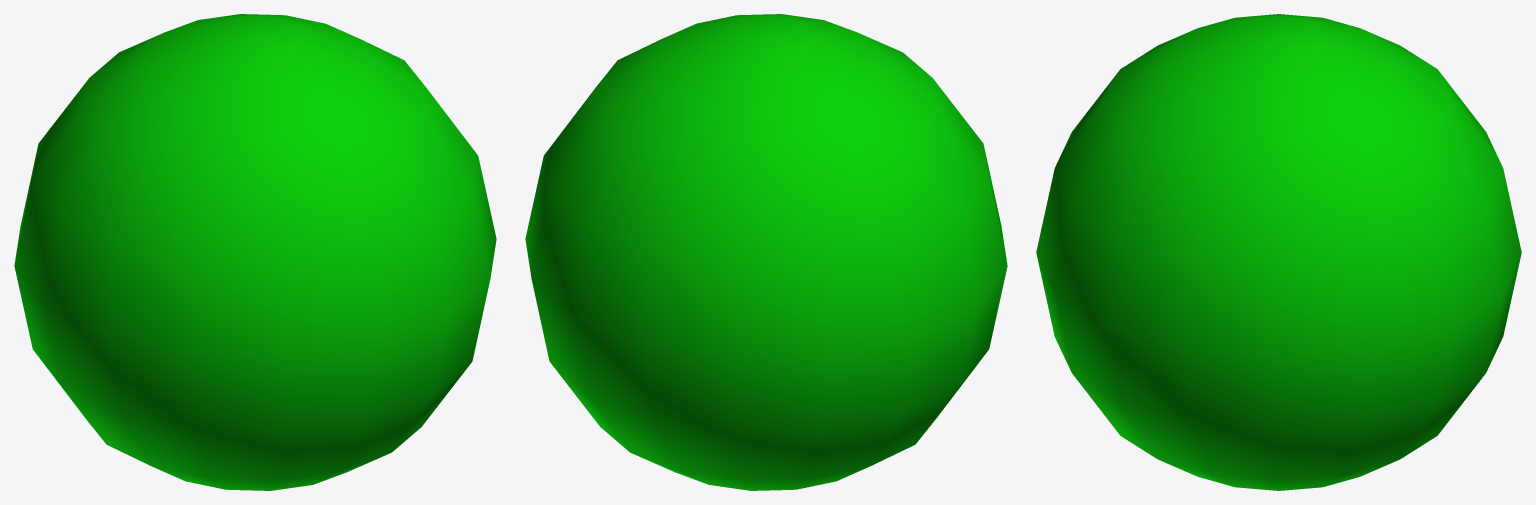
Rendered from UCXKugelbahnBall.fbx.
3 views of the same model, side by side, from view 1: azimuth 30°, elevation 25°; view 2: azimuth 150°, elevation 25°; view 3: azimuth 270°, elevation 25° (orthographic).
Visible parts, largest first — view 1: UCX_Kugelbahn_Ball_low; view 2: UCX_Kugelbahn_Ball_low; view 3: UCX_Kugelbahn_Ball_low.
Boxes of the visible parts, box(x1,y1,x2,y2) form: UCX_Kugelbahn_Ball_low: box(14, 14, 496, 490); UCX_Kugelbahn_Ball_low: box(525, 14, 1007, 490); UCX_Kugelbahn_Ball_low: box(1036, 14, 1521, 490).
Bounding box in the file's own units: 0.0161 × 0.0161 × 0.0161.
